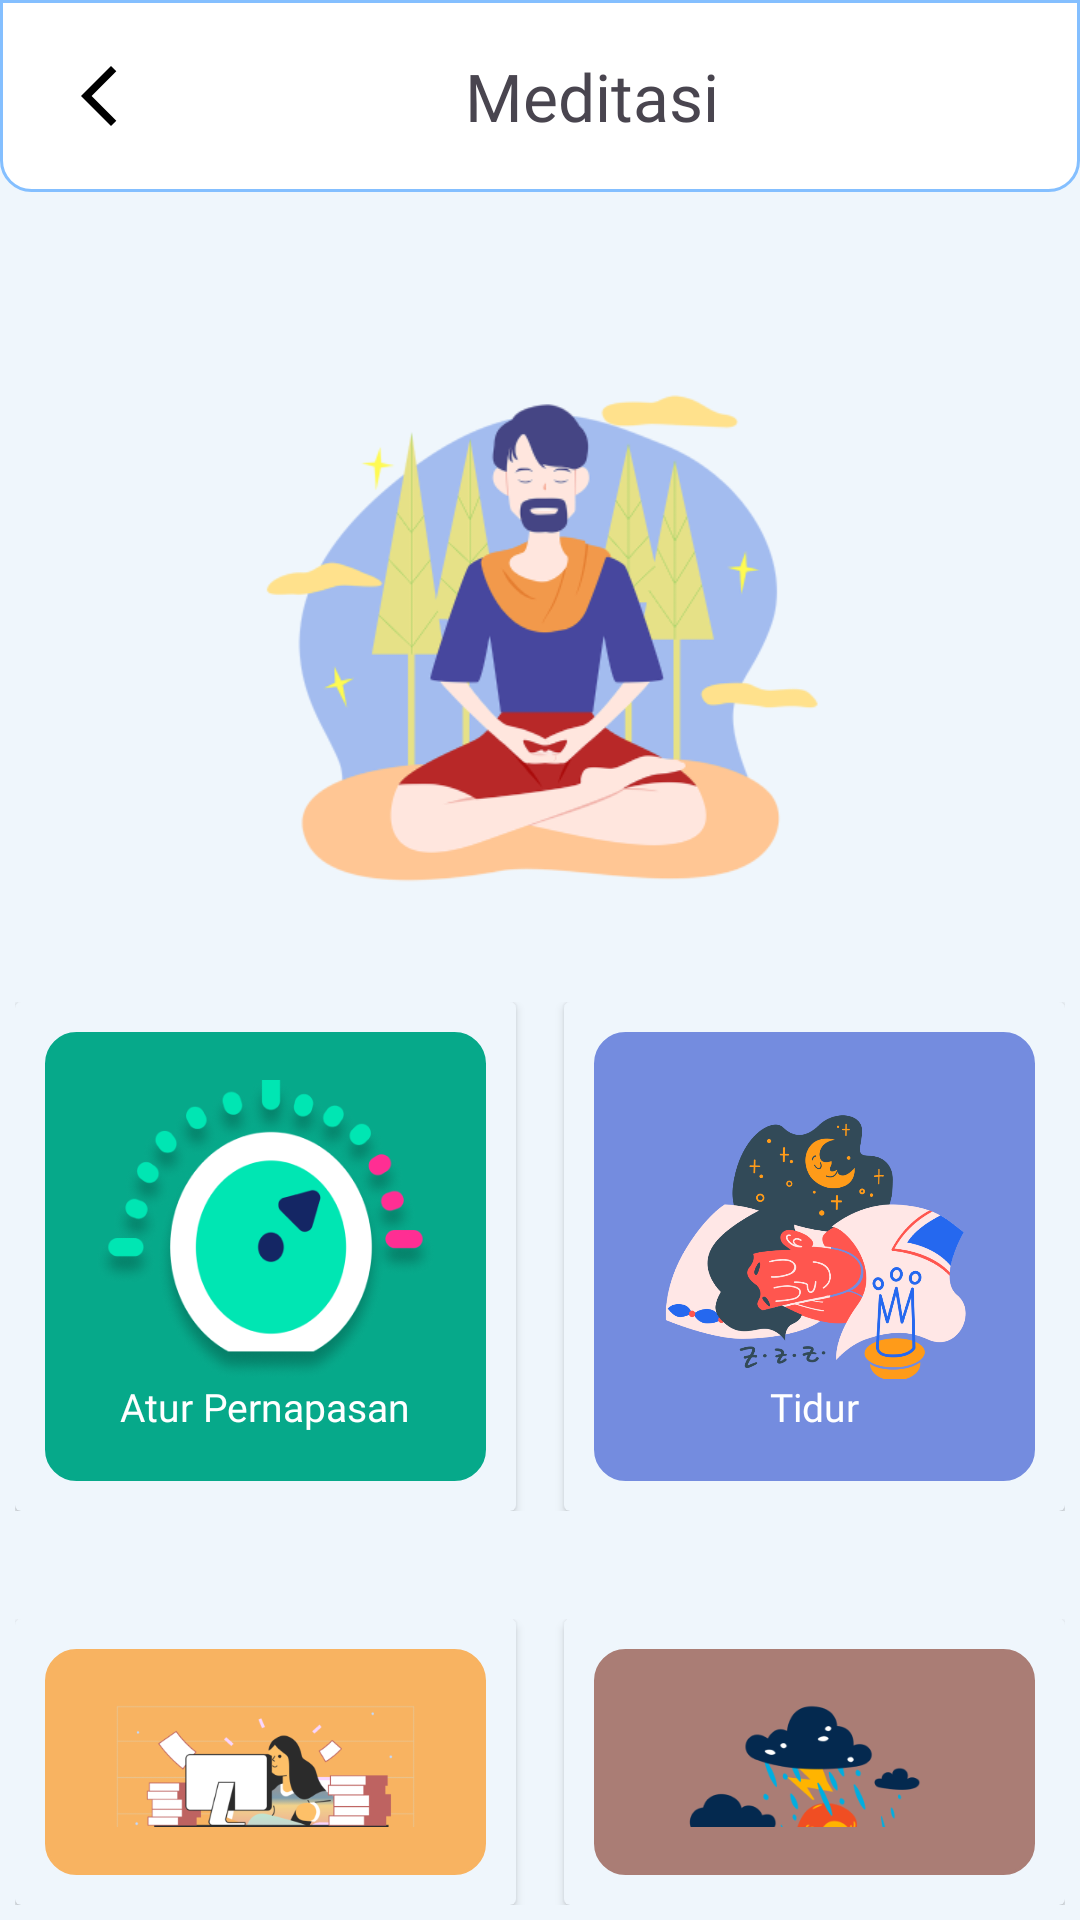

Icons on this 1080*1920 Android screen, each with the point to tap as [x,y]:
kembali: [98,96]
